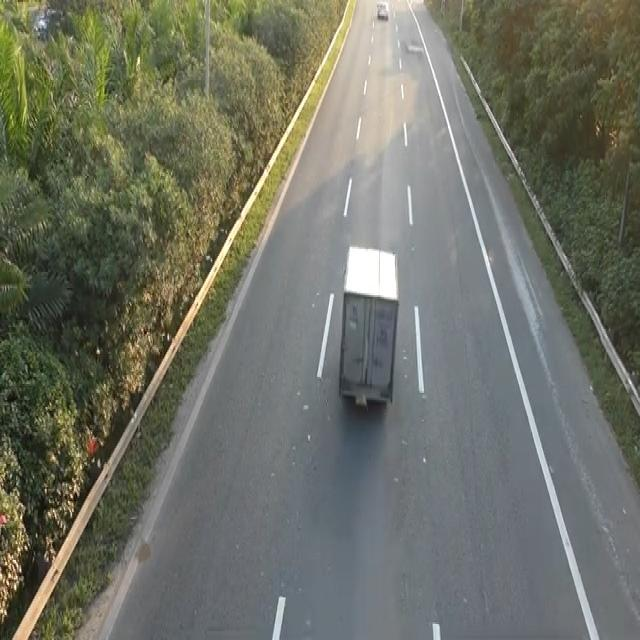minivan: (336, 240, 401, 412)
